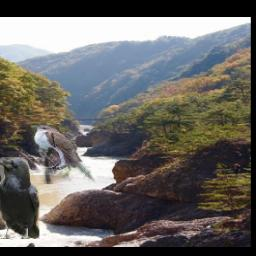Crow: (0, 158, 39, 240)
Cuckoo: (32, 125, 97, 184)
